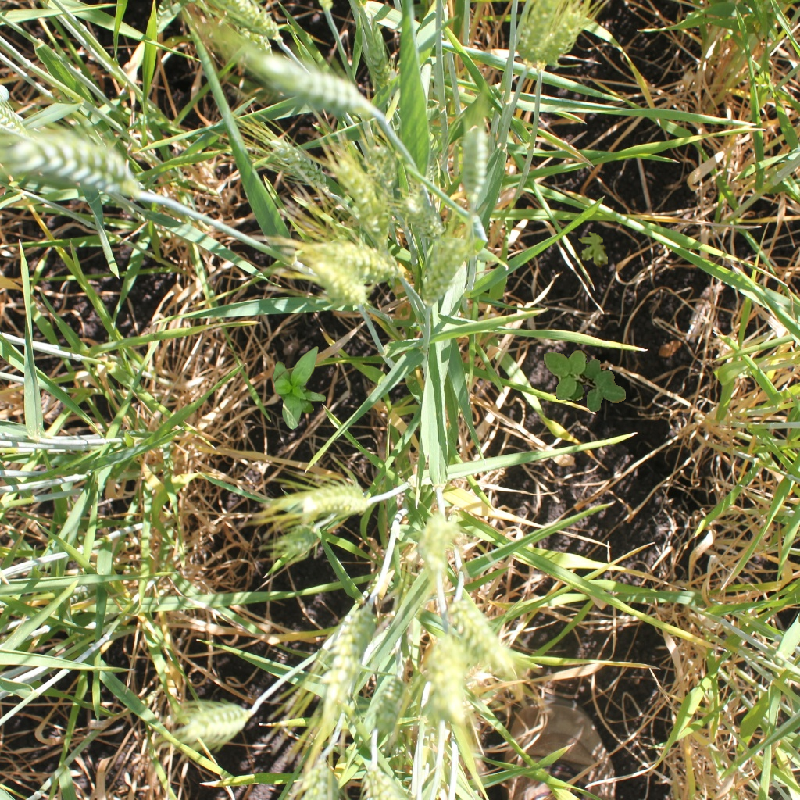spikelet: (8, 130, 143, 197), (261, 51, 373, 117), (446, 594, 517, 676), (320, 601, 374, 704), (423, 632, 475, 718), (330, 151, 387, 227), (316, 239, 403, 282), (419, 233, 469, 306), (266, 136, 328, 189), (308, 256, 370, 309), (294, 480, 372, 518), (533, 10, 586, 64), (182, 701, 250, 742), (416, 508, 461, 568), (218, 1, 282, 41), (457, 126, 491, 200), (401, 187, 445, 240), (361, 761, 420, 800), (270, 520, 324, 562), (297, 756, 341, 800), (151, 1, 183, 34)
weed: (544, 350, 626, 412), (273, 346, 326, 430), (578, 232, 608, 267)
